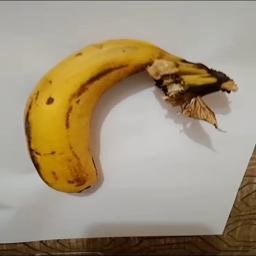Banana Semifresh: (22, 39, 235, 196)
